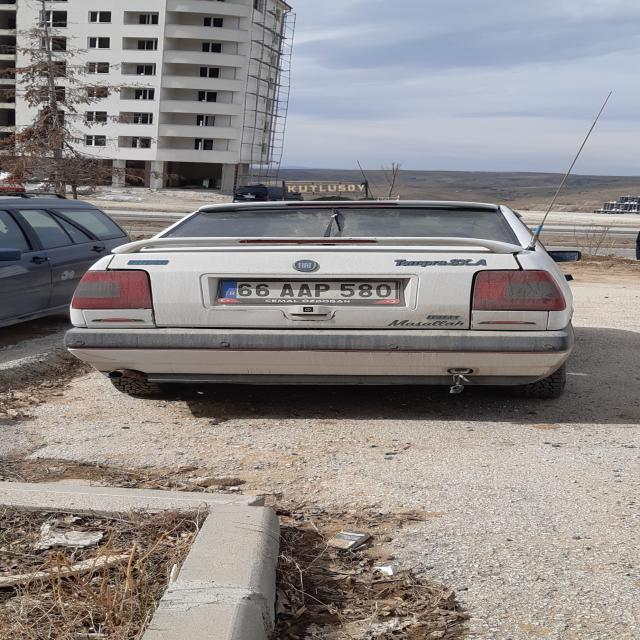plate: (218, 281, 398, 299)
